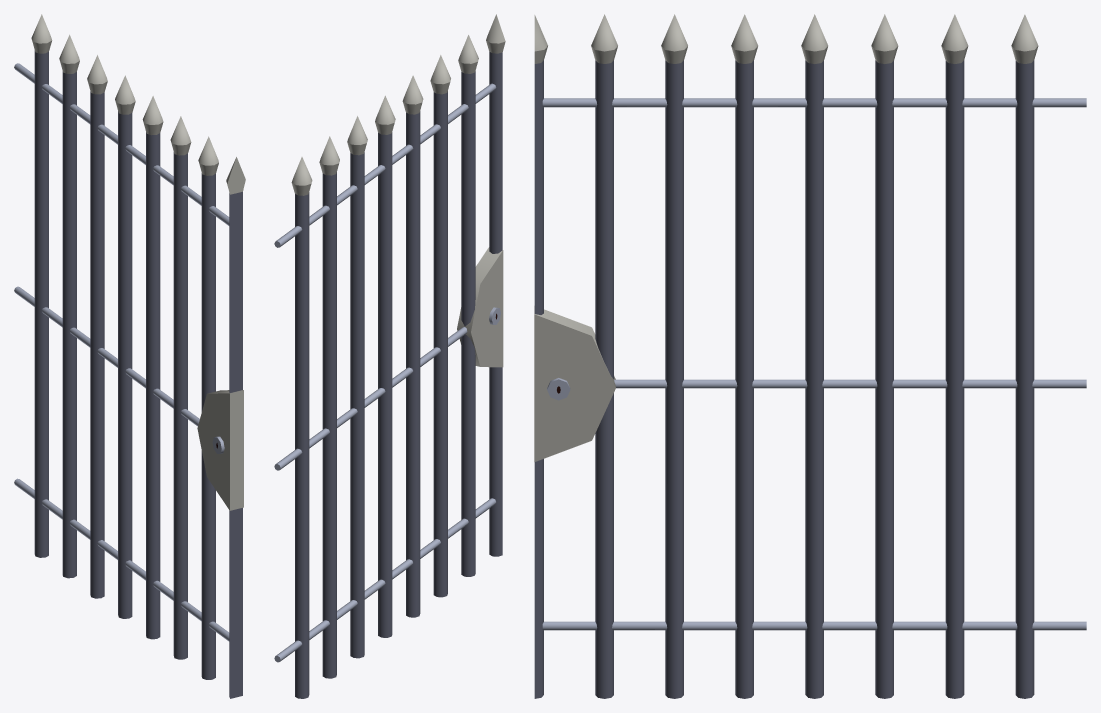
Rendered from PuertaReja.fbx.
The picture shows the model from 3 angles, left to right: view 1: azimuth 30°, elevation 25°; view 2: azimuth 150°, elevation 25°; view 3: azimuth 270°, elevation 25°; orthographic projection. The views are drawn at different scales.
Parts seen in each view (by area): view 1: Cylinder.002; view 2: Cylinder.002; view 3: Cylinder.002.
Part boxes in pixels (<box>): Cylinder.002: <box>14,14,245,698</box>; Cylinder.002: <box>274,14,505,698</box>; Cylinder.002: <box>534,14,1086,698</box>.
Bounding box in the file's own units: 0.1221 × 3.22 × 2.37.
